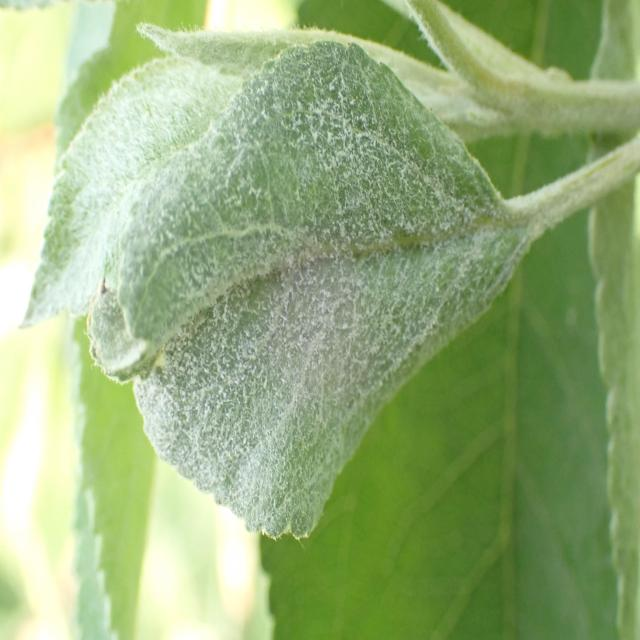Powdery_mildew: (50, 12, 538, 544)
